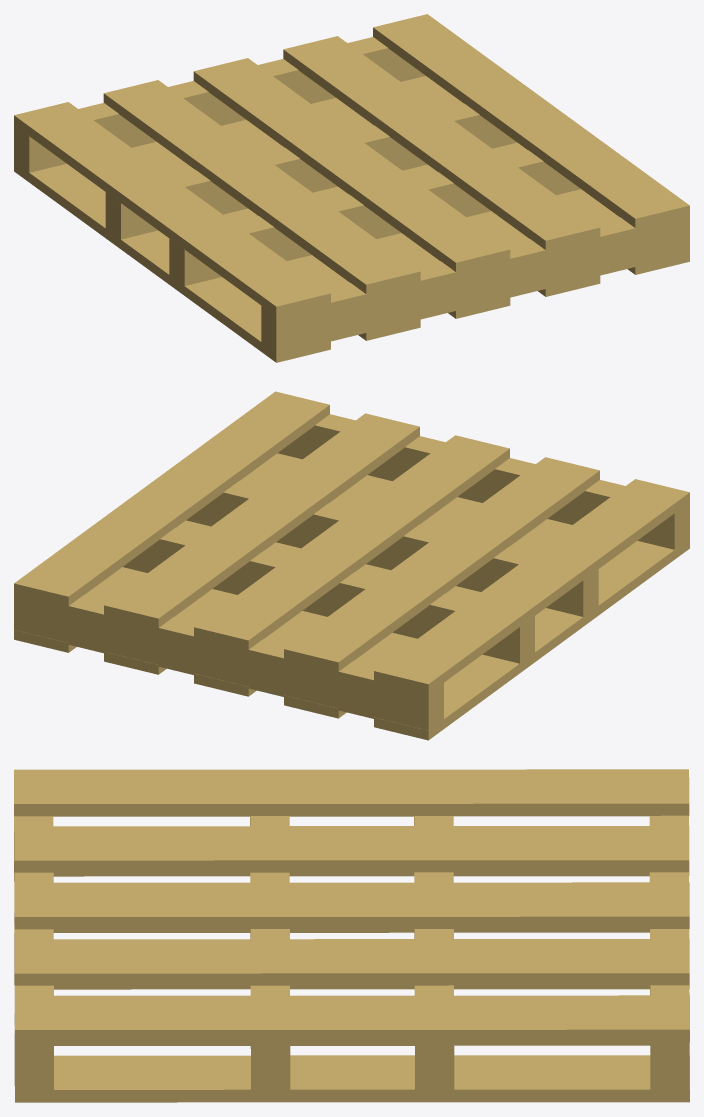
File: Pallette.fbx
The picture shows the model from 3 angles, top to bottom: view 1: azimuth 30°, elevation 25°; view 2: azimuth 150°, elevation 25°; view 3: azimuth 270°, elevation 25°; orthographic projection. The views are drawn at different scales.
Parts seen in each view (by area): view 1: Props; view 2: Props; view 3: Props.
Part boxes in pixels (x1,y1,x2,y2): Props: [14, 14, 689, 362]; Props: [14, 391, 689, 740]; Props: [14, 769, 689, 1102].
Size of the model in its own units: 43.6 by 5.65 by 47.76.
